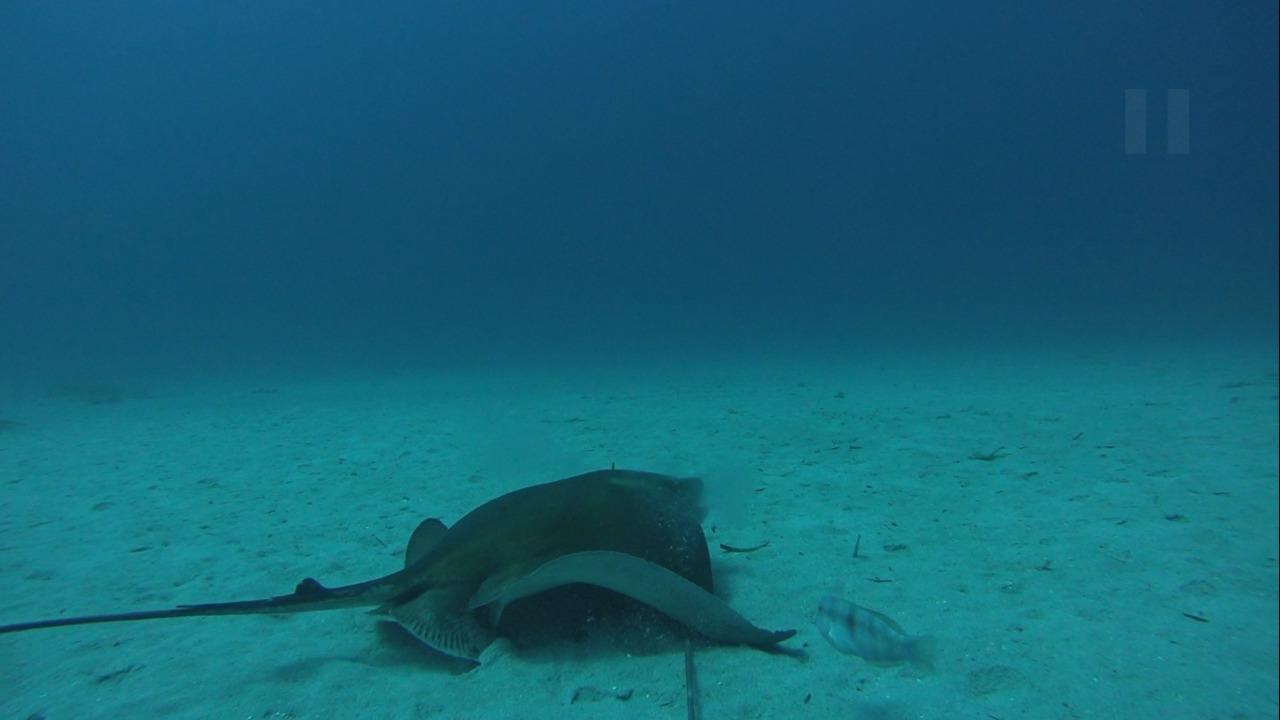myliobatis: (1, 465, 799, 673)
raor: (804, 585, 942, 682)
